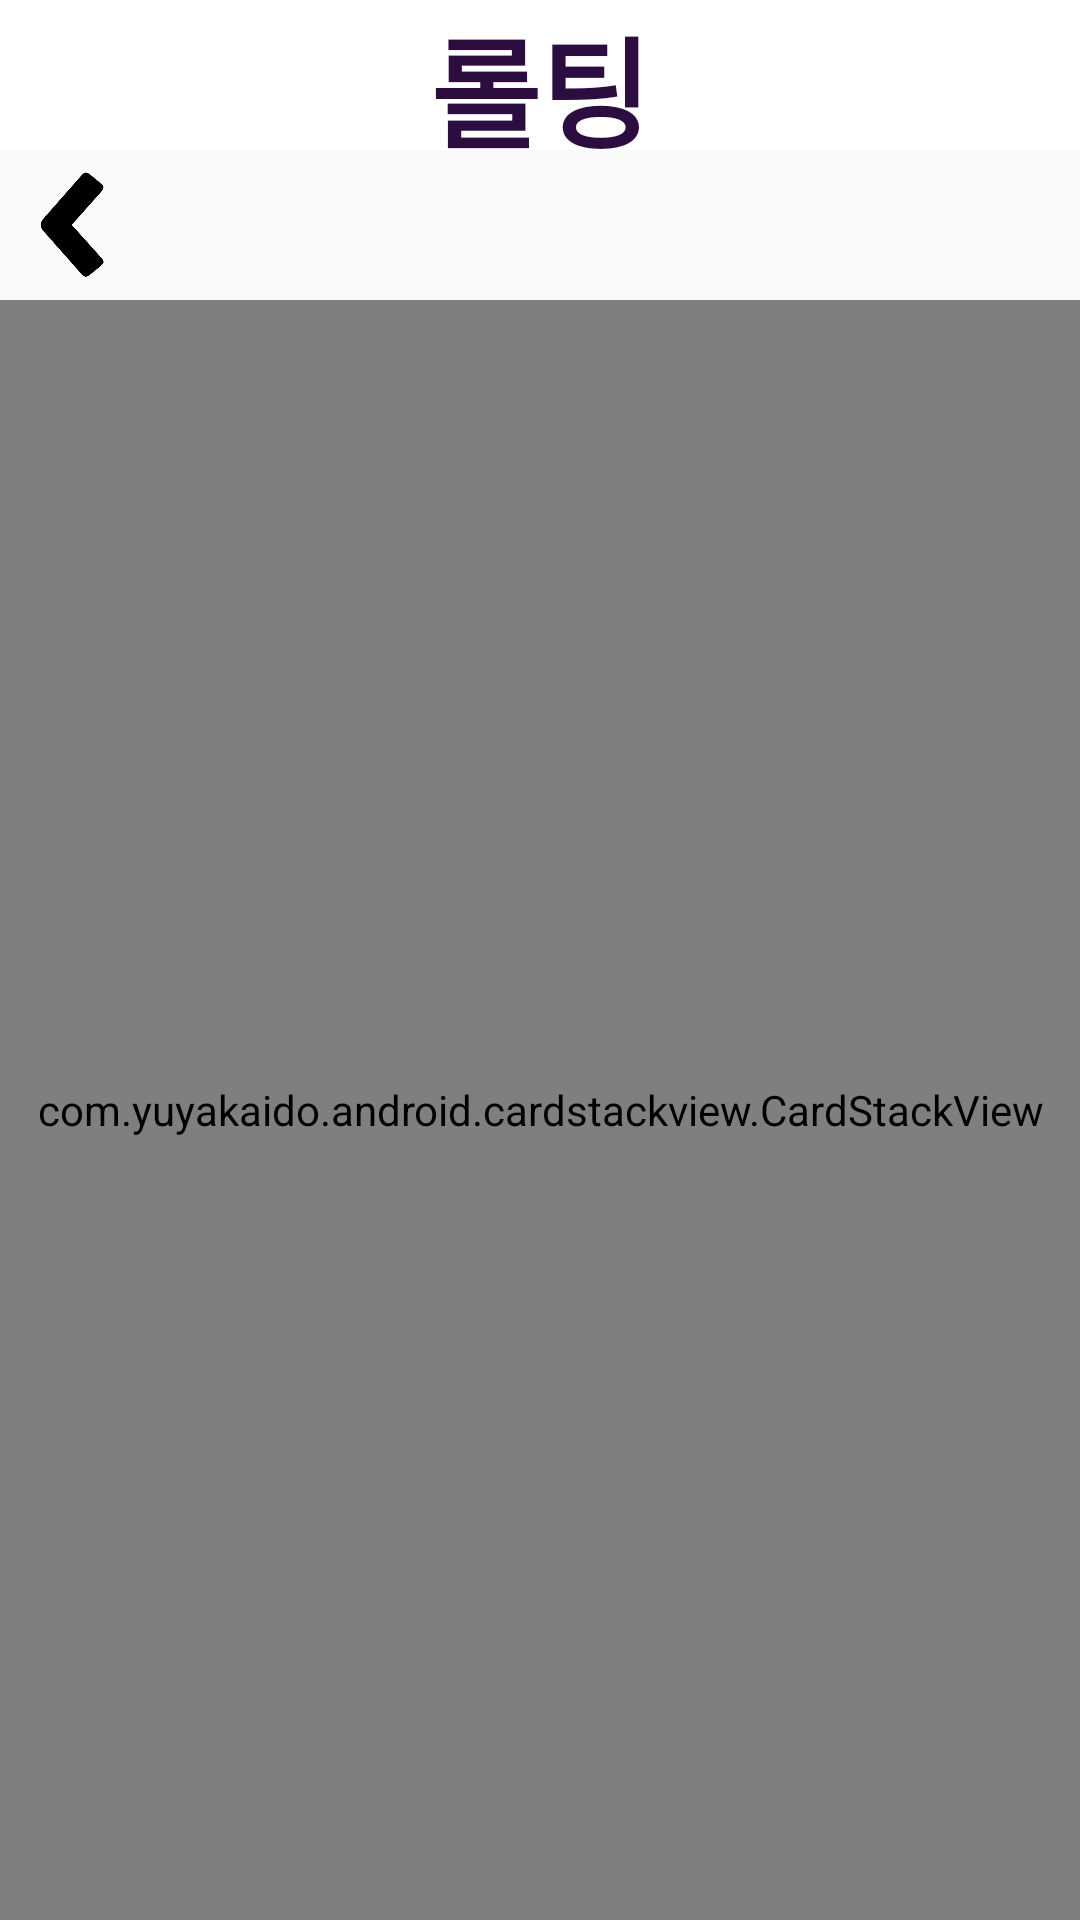

Where icons sit on this 1080 x 1920 app screen, as (x1, y1, x2, y2):
backbuttonimg: (41, 172, 104, 277)
